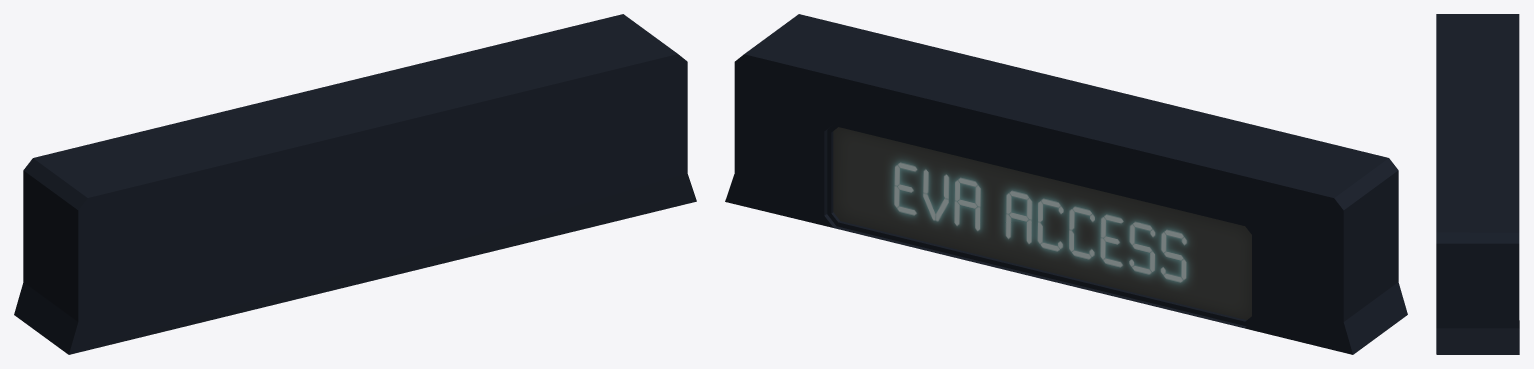
File: ExitVaultPanel.FBX
3 views of the same model, side by side, from view 1: azimuth 30°, elevation 25°; view 2: azimuth 150°, elevation 25°; view 3: azimuth 270°, elevation 25° (orthographic). The views are drawn at different scales.
Parts seen in each view (by area): view 1: ExitVaultPanel_Body; view 2: ExitVaultPanel_Body, ExitVaultPanel_Screen; view 3: ExitVaultPanel_Body.
Boxes of the visible parts, x1,y1,x2,y2 form: ExitVaultPanel_Body: [14, 14, 696, 354]; ExitVaultPanel_Body: [725, 14, 1407, 354]; ExitVaultPanel_Screen: [833, 127, 1251, 319]; ExitVaultPanel_Body: [1436, 14, 1519, 354].
Bounding box in the file's own units: 109 × 16.53 × 25.25.
2 materials, 1 textured.
